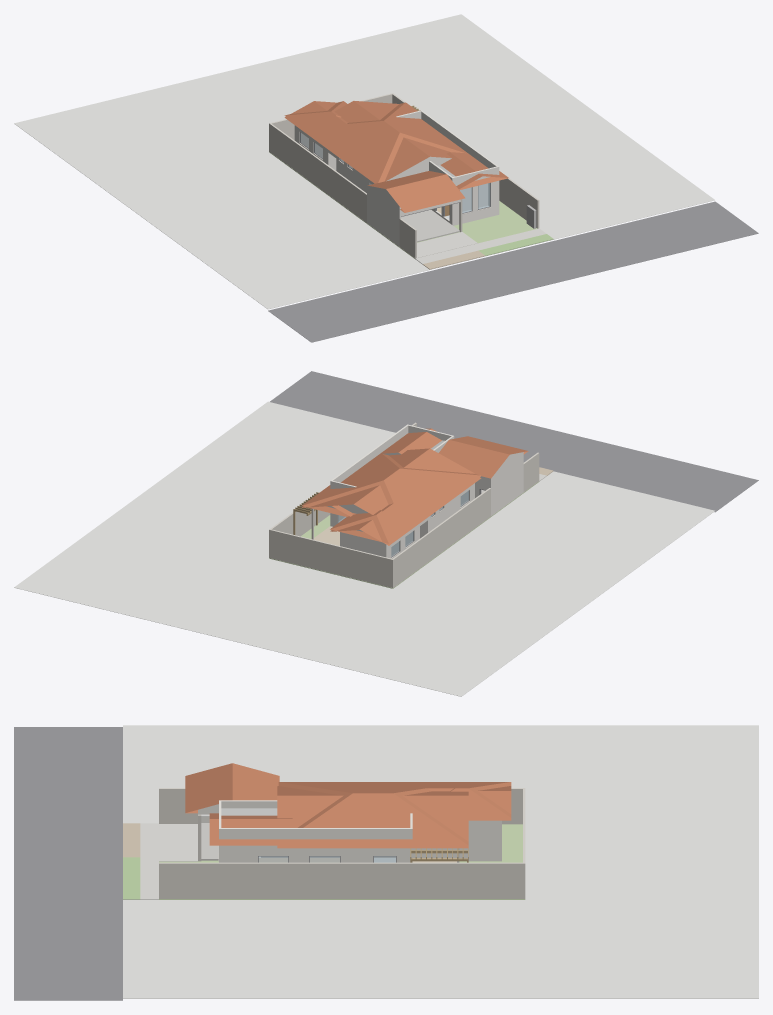
The model's file is casa.glb.
The picture shows the model from 3 angles, top to bottom: view 1: azimuth 30°, elevation 25°; view 2: azimuth 150°, elevation 25°; view 3: azimuth 270°, elevation 25°; orthographic projection. The views are drawn at different scales.
Visible parts, largest first — view 1: exterior~entorno, exterior~rua, telhado~op1-4a~principal, muros~M02, telhado~op1-2a~garagem, telhado~op1-2a~principal, telhado~op4-4a~ala, exterior~terreno, telhado~op4-2a~social_platibanda, paredes~P15, muros~M04, pisos~garagem (+7 smaller); view 2: exterior~entorno, exterior~rua, telhado~op1-4a~principal, muros~M03, muros~M02, telhado~op1-2a~principal, telhado~op1-2a~garagem, telhado~op1-4a~ala_fundo, paredes~P15, telhado~op4-2a~social_platibanda, paredes~P02, muros~M04 (+4 smaller); view 3: exterior~entorno, exterior~rua, muros~M04, telhado~op1-4a~principal, telhado~op1-2a~principal, telhado~op1-2a~garagem, telhado~op4-2a~social_platibanda, paredes~P03c, telhado~op1-2a~frente_social, telhado~op4-4a~ala, exterior~acesso_garagem, exterior~passeio (+12 smaller).
Part boxes in pixels (x1,y1,x2,y2): exterior~entorno: [14, 14, 714, 309]; exterior~rua: [268, 201, 758, 342]; telhado~op1-4a~principal: [302, 102, 468, 182]; muros~M02: [270, 123, 366, 222]; telhado~op1-2a~garagem: [368, 171, 465, 212]; telhado~op1-2a~principal: [302, 101, 451, 183]; telhado~op4-4a~ala: [286, 102, 394, 182]; exterior~terreno: [269, 152, 537, 258]; telhado~op4-2a~social_platibanda: [396, 110, 499, 185]; paredes~P15: [367, 187, 401, 246]; muros~M04: [392, 94, 539, 228]; pisos~garagem: [401, 210, 459, 242]; exterior~entorno: [14, 401, 714, 696]; exterior~rua: [270, 371, 758, 512]; telhado~op1-4a~principal: [302, 453, 480, 530]; muros~M03: [269, 529, 393, 587]; muros~M02: [393, 488, 490, 587]; telhado~op1-2a~principal: [302, 448, 480, 532]; telhado~op1-2a~garagem: [439, 436, 527, 478]; telhado~op1-4a~ala_fundo: [330, 510, 427, 543]; paredes~P15: [489, 456, 523, 516]; telhado~op4-2a~social_platibanda: [330, 424, 454, 488]; paredes~P02: [387, 483, 474, 558]; muros~M04: [270, 422, 416, 536]; exterior~entorno: [123, 725, 758, 998]; exterior~rua: [14, 727, 122, 1000]; muros~M04: [159, 862, 522, 898]; telhado~op1-4a~principal: [278, 782, 468, 845]; telhado~op1-2a~principal: [277, 786, 468, 848]; telhado~op1-2a~garagem: [185, 763, 279, 812]; telhado~op4-2a~social_platibanda: [219, 800, 412, 839]; paredes~P03c: [310, 820, 499, 861]; telhado~op1-2a~frente_social: [209, 813, 292, 845]; telhado~op4-4a~ala: [279, 782, 511, 791]; exterior~acesso_garagem: [159, 824, 197, 861]; exterior~passeio: [140, 823, 158, 899].
Bounding box in the file's own units: 41.5 × 5 × 47.8.
